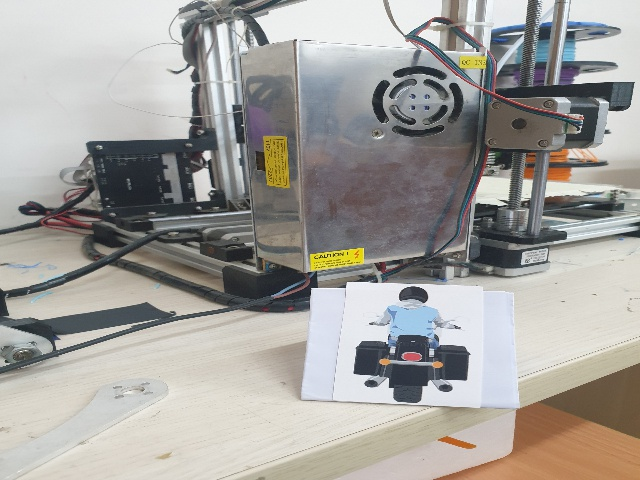Motorcycle: (345, 285, 478, 407)
